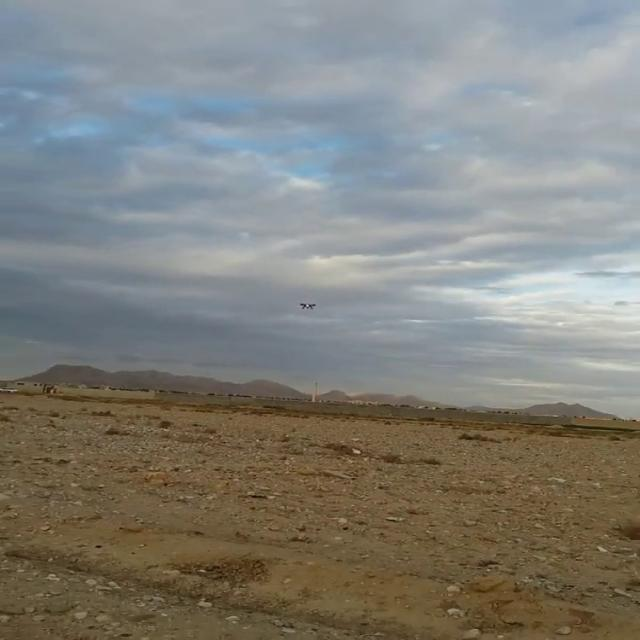drone: (297, 298, 318, 312)
